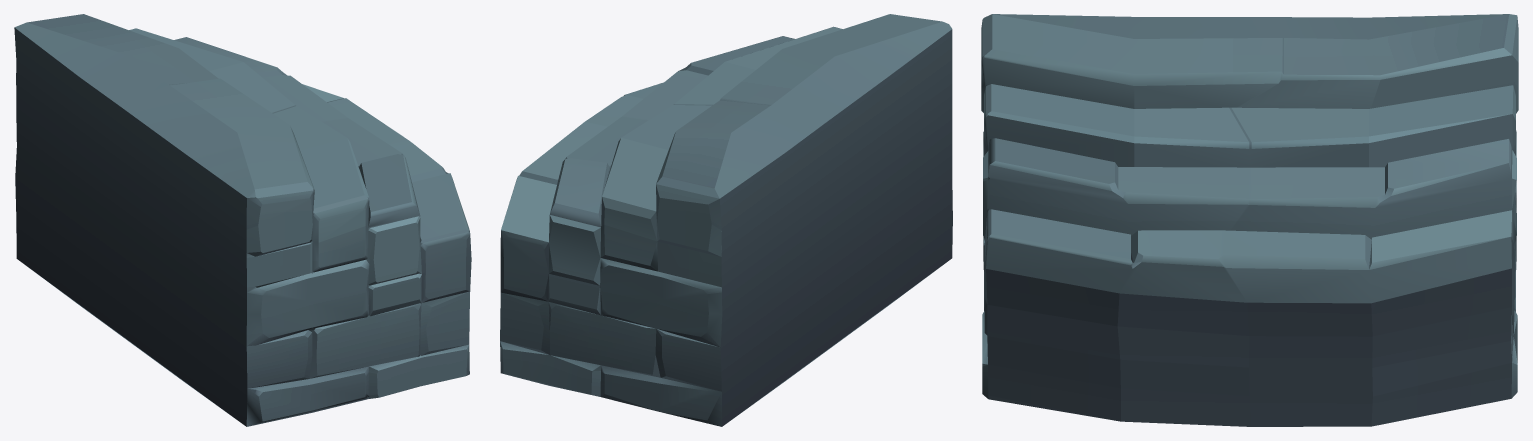
File: Modular_Dungeon_Stairs_Middle.fbx
3 renders of one model, left to right at view 1: azimuth 30°, elevation 25°; view 2: azimuth 150°, elevation 25°; view 3: azimuth 270°, elevation 25°, orthographic. The views are drawn at different scales.
Visible parts, largest first — view 1: Stairs_Middle; view 2: Stairs_Middle; view 3: Stairs_Middle.
Part boxes in pixels (x1=…): Stairs_Middle: x1=14, y1=14, x2=471, y2=426; Stairs_Middle: x1=500, y1=14, x2=952, y2=426; Stairs_Middle: x1=981, y1=14, x2=1518, y2=426.
Bounding box in the file's own units: 4.75 × 3.94 × 7.12.
1 material, 1 textured.
